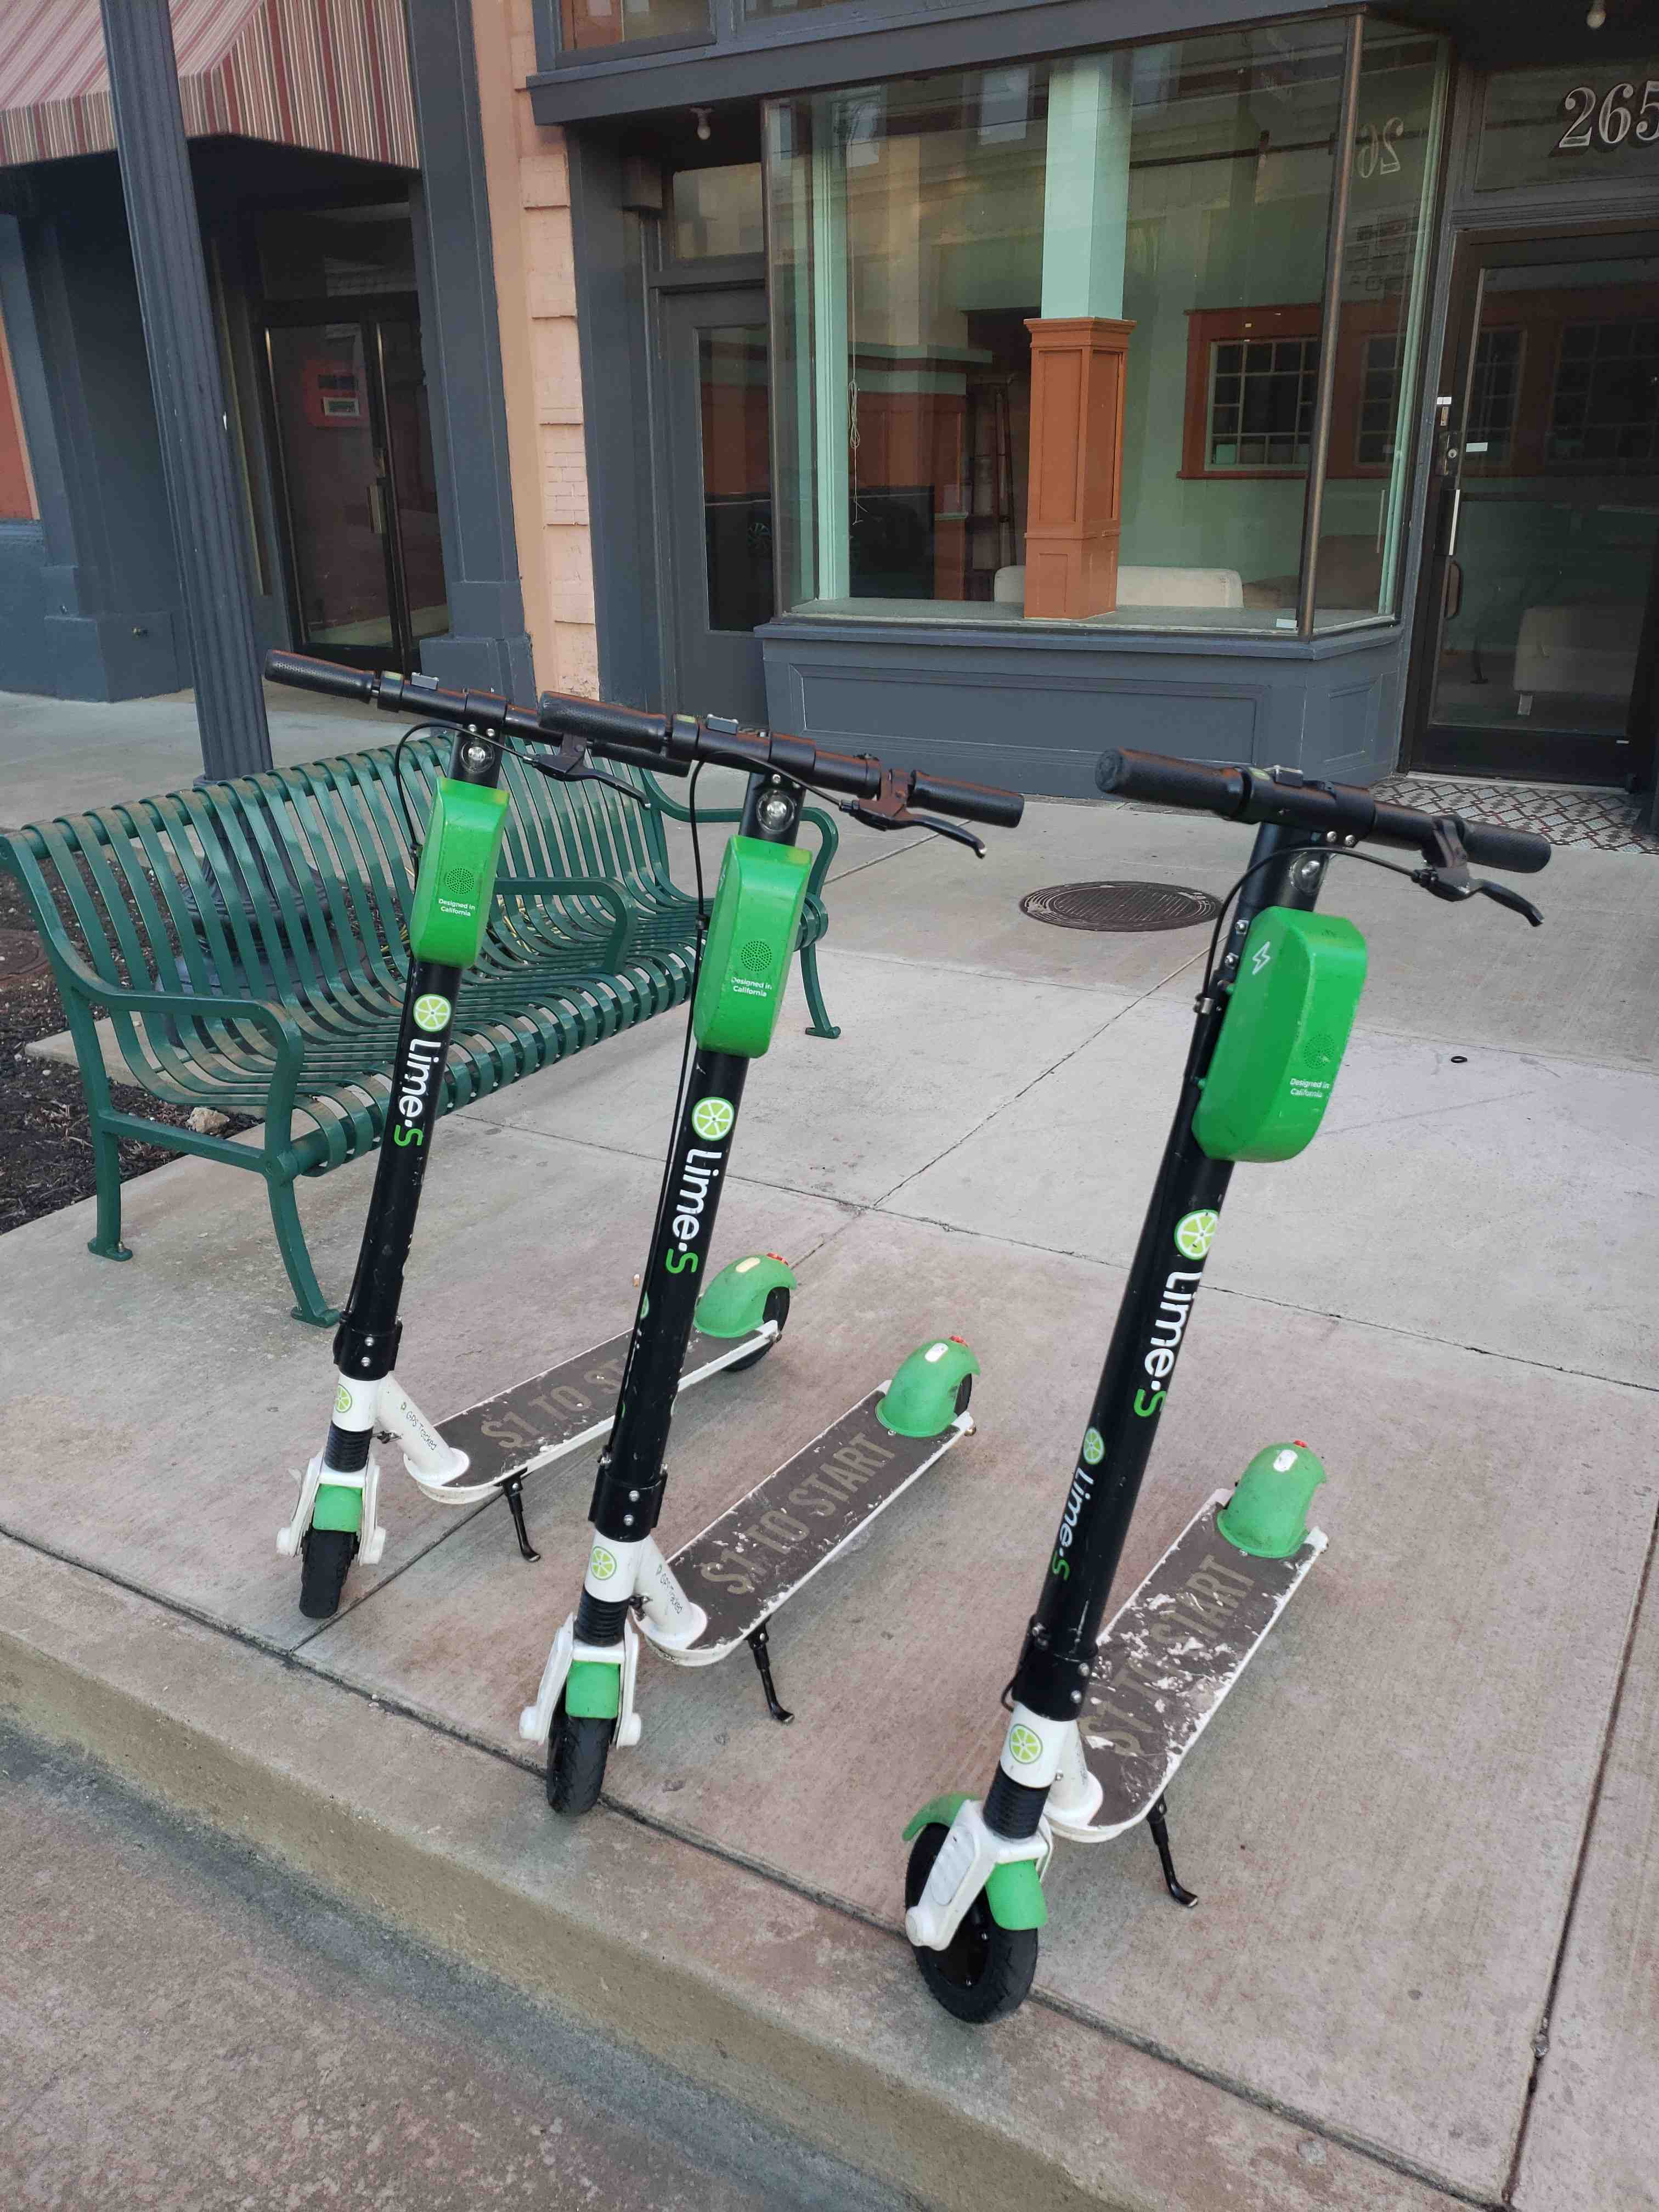too close: (793, 1773, 1150, 2181)
